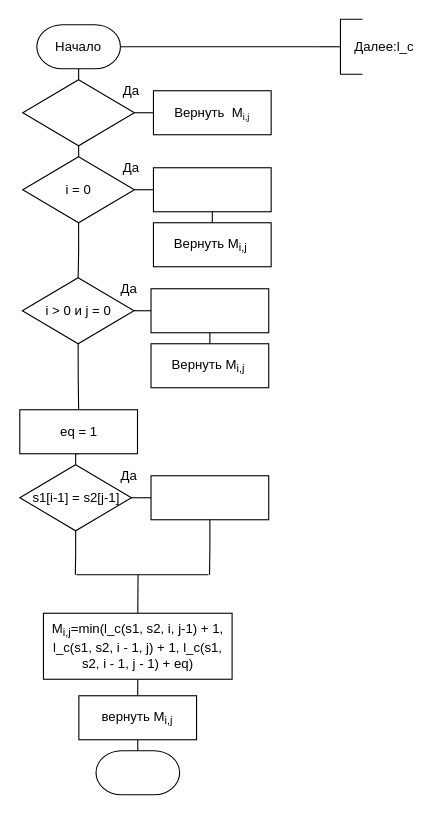
Some shapes in this 432 by 814 pixel diagram are drawn without their labels. Here are the shapes that lost their labels. From the top down, the box of each, then its label:
(22, 79, 134, 146): M i, j != беск.
(152, 167, 271, 212): M i,j = j
(150, 288, 269, 333): M i,j = i
(150, 475, 269, 520): eq = 0
(95, 750, 180, 795): Конец
